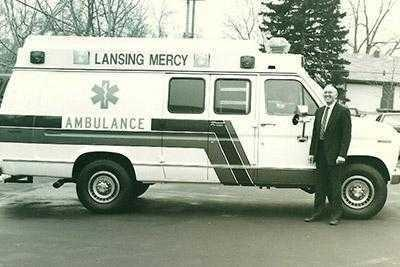car: (0, 34, 398, 219)
